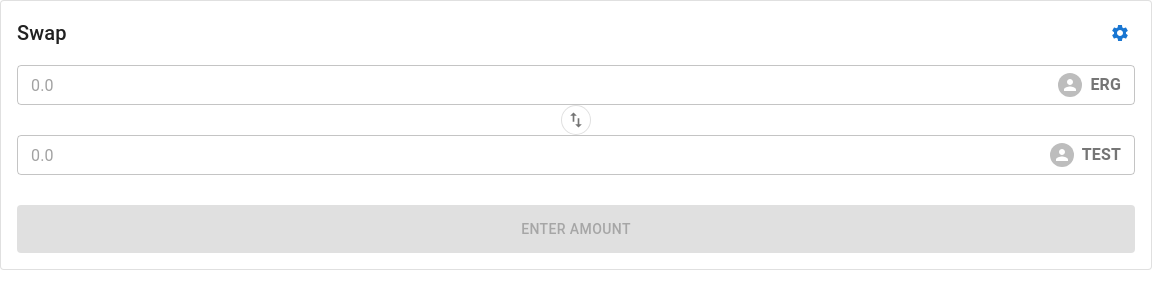
Test: SwapWidget › No Pool Found › shows no pool found message when API returns 404
The image size is (1152, 287).
Expected: the heading "Swap" is shown, [17, 17, 67, 49]
Type "1" into the field with placeholder "0.0" next to "ERG" at (538, 85), box [17, 65, 1058, 105]
Wait 600 ms
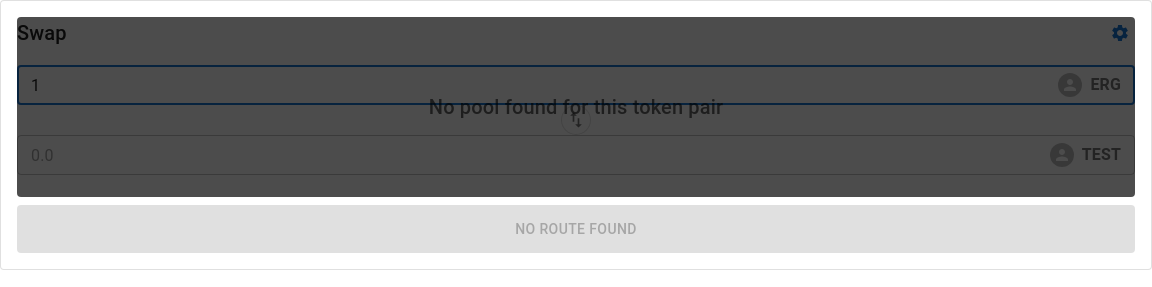
Expected: the heading "No pool found for this token pair" is shown, [405, 91, 747, 123]
